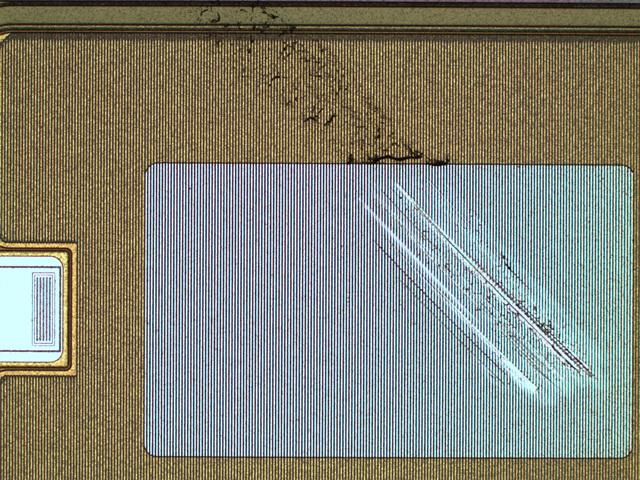SCRATCH: (171, 2, 616, 411)
